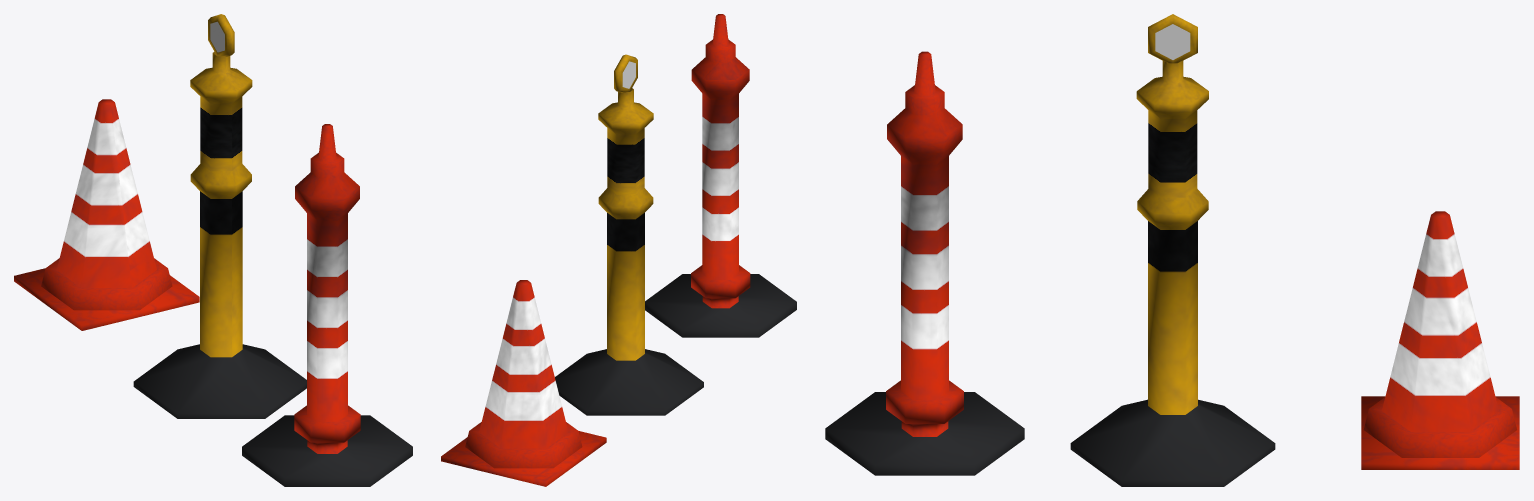
Rendered from modulosdecones.fbx.
The picture shows the model from 3 angles, left to right: view 1: azimuth 30°, elevation 25°; view 2: azimuth 150°, elevation 25°; view 3: azimuth 270°, elevation 25°; orthographic projection. The views are drawn at different scales.
Parts seen in each view (by area): view 1: Cube; view 2: Cube; view 3: Cube.
Part boxes in pixels (box(x1,y1,x2,y2)): Cube: box(14, 14, 412, 486); Cube: box(441, 14, 796, 486); Cube: box(825, 14, 1519, 486).
Bounding box in the file's own units: 268 × 728 × 1051.
